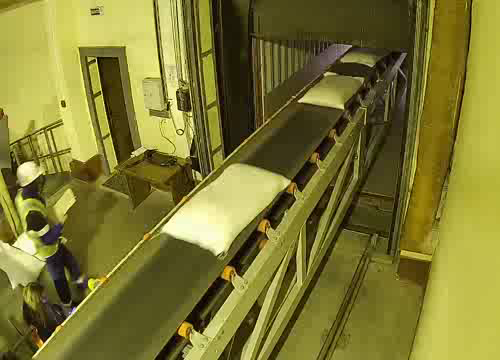bag: (153, 153, 305, 267), (293, 71, 367, 113), (336, 44, 397, 67)
